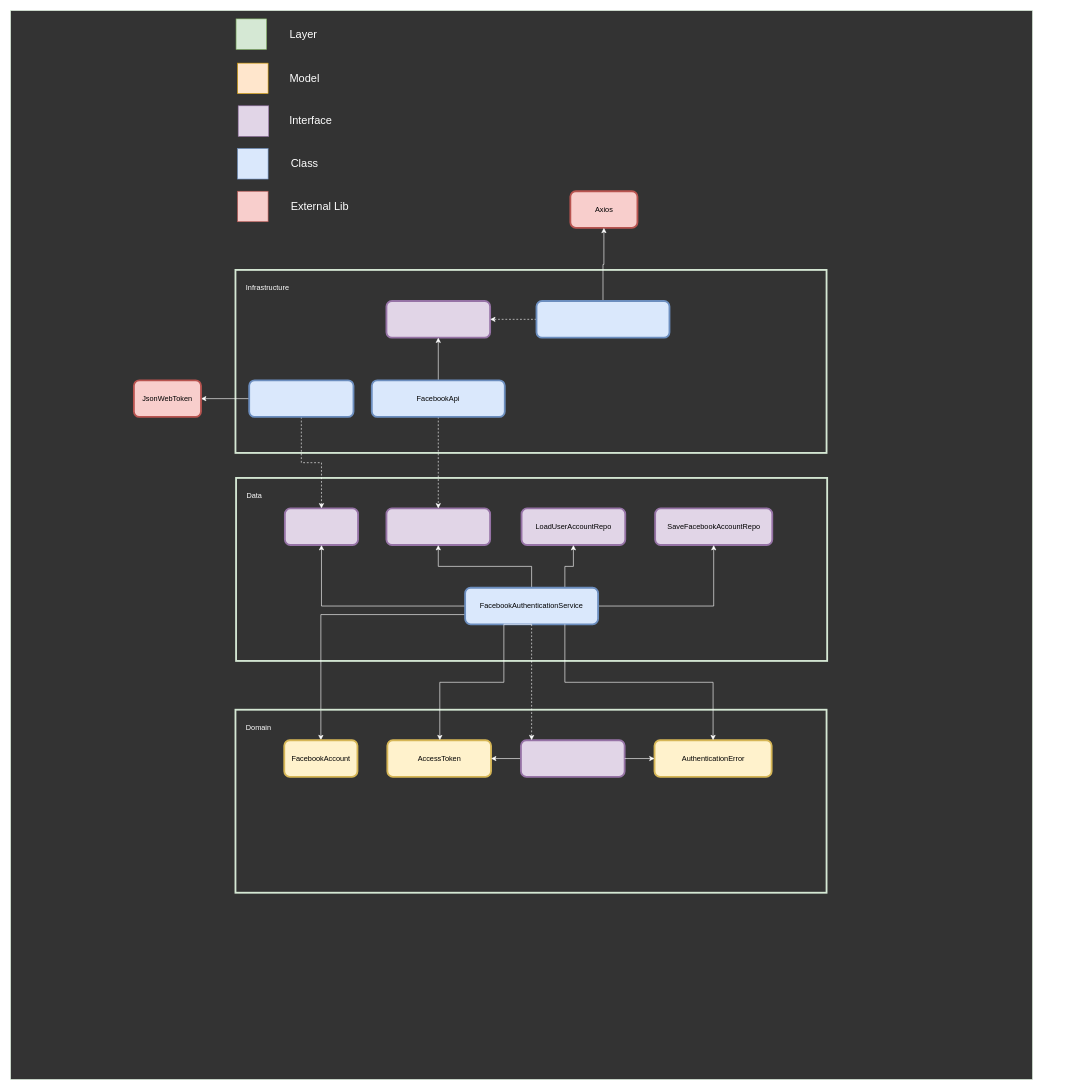
Some shapes in this 1079 by 1090 pixel diagram are drawn without their labels. The box of each missing label's shape, as (x1, y1, x2, y2) in pixels:
AxiosHttpClient: (535, 300, 670, 338)
FacebookAuthentication: (520, 739, 625, 777)
HttpGetClient: (385, 300, 491, 338)
JwtTokenGenerator: (248, 379, 354, 418)
LoadFacebookUserApi: (385, 507, 491, 546)
TokenGenerator: (284, 507, 359, 546)
